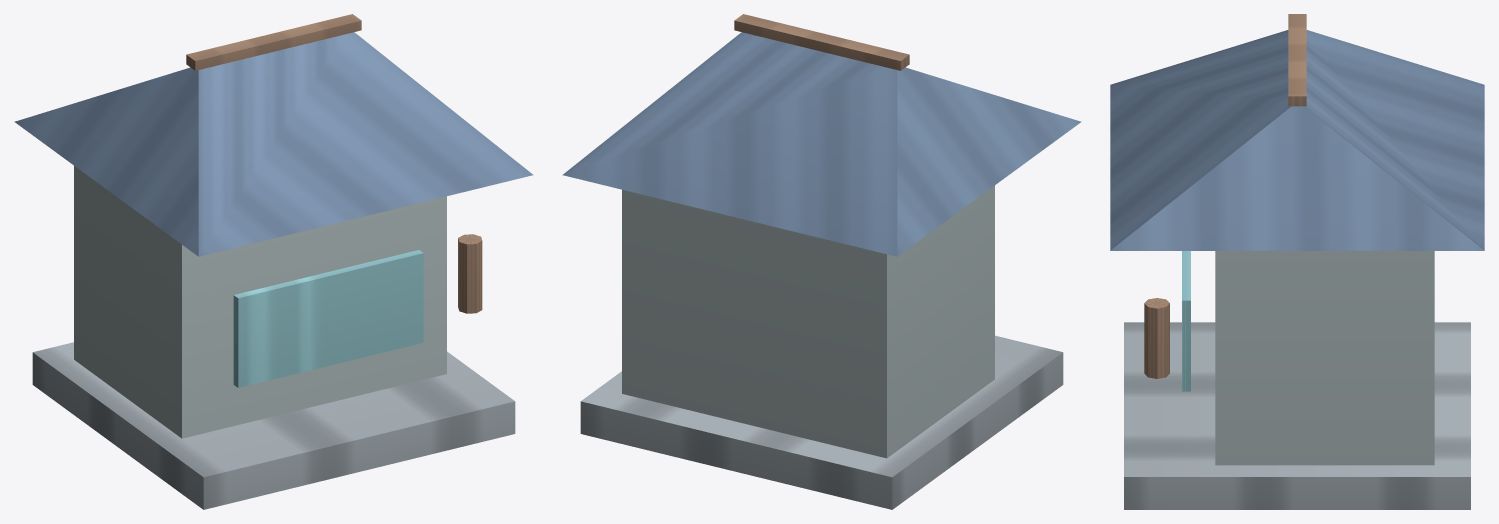
The model's file is guard_post.glb.
3 renders of one model, left to right at view 1: azimuth 30°, elevation 25°; view 2: azimuth 150°, elevation 25°; view 3: azimuth 270°, elevation 25°, orthographic.
Parts seen in each view (by area): view 1: guard_post; view 2: guard_post; view 3: guard_post.
Part boxes in pixels (left/top/right/bottom): guard_post: left=14, top=14, right=533, bottom=509; guard_post: left=562, top=14, right=1081, bottom=509; guard_post: left=1110, top=14, right=1484, bottom=509.
Bounding box in the file's own units: 4.3 × 4.56 × 4.1.
Materials: 1 (1 with a texture image).
